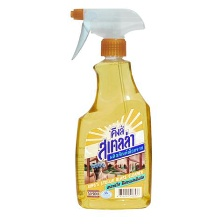cleaning_solution: (64, 4, 157, 212)
